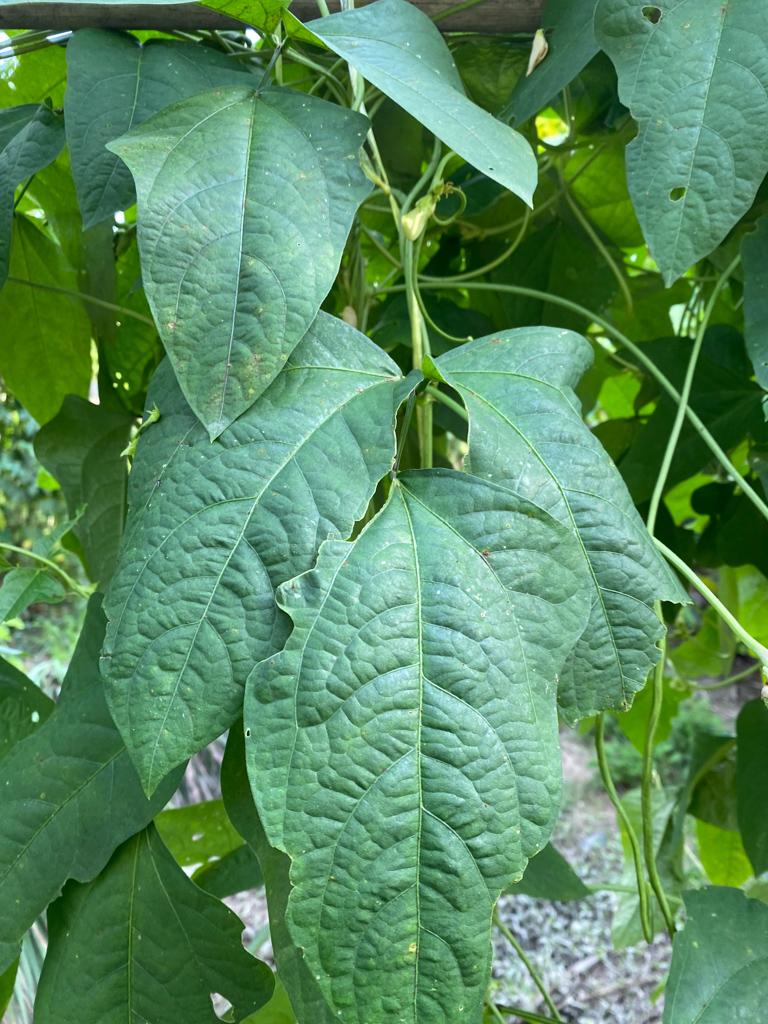Rust: (282, 155, 337, 272), (237, 342, 267, 395)
